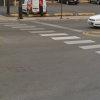Crosswalk: (14, 18, 93, 58)
